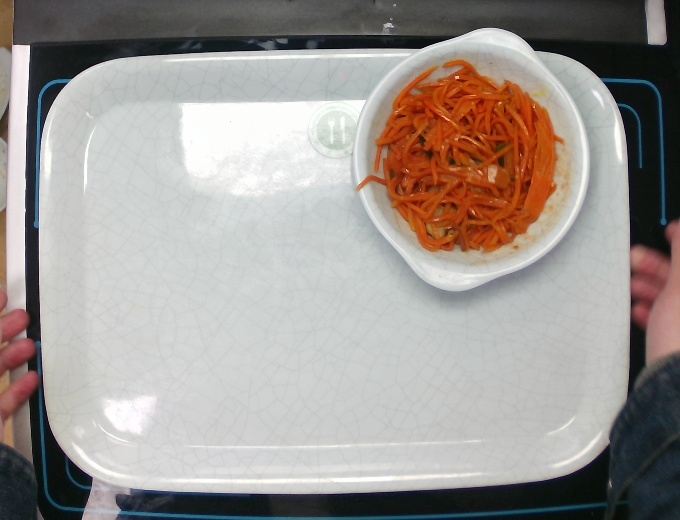JYsf-Shuang_Er_Wan: (348, 23, 596, 296)
